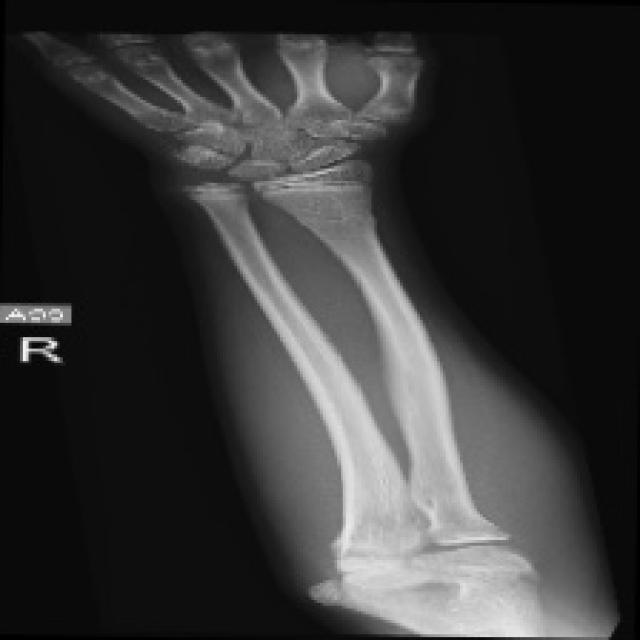fracture: (355, 268, 485, 472)
